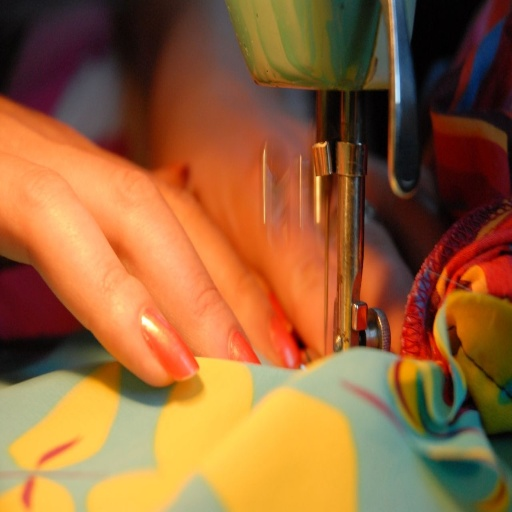hand: (0, 95, 300, 386), (152, 87, 448, 355)
